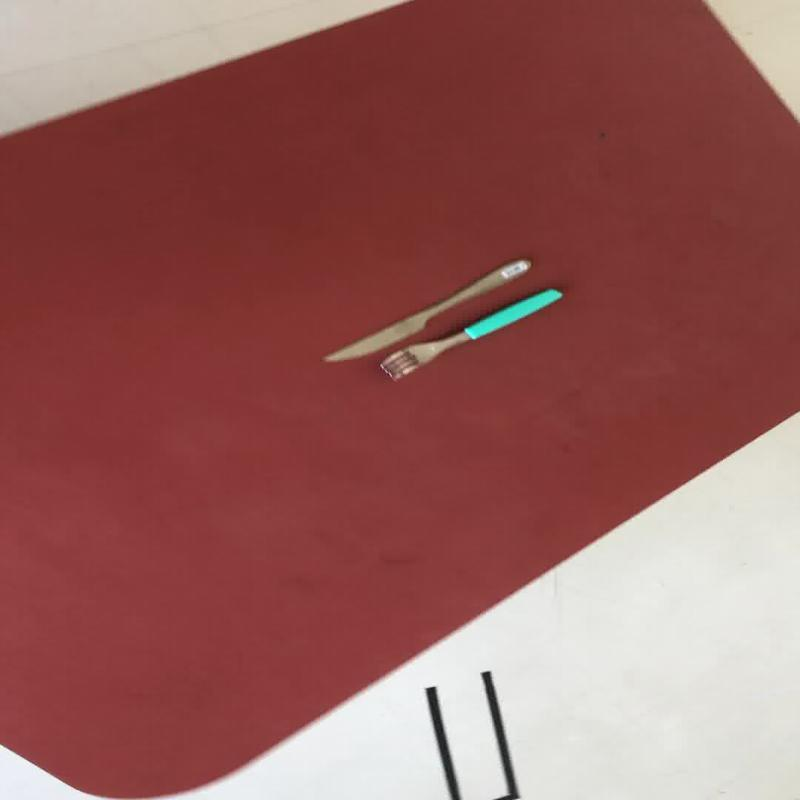fork: (376, 286, 562, 381)
knife: (318, 255, 532, 363), (376, 286, 562, 381)
